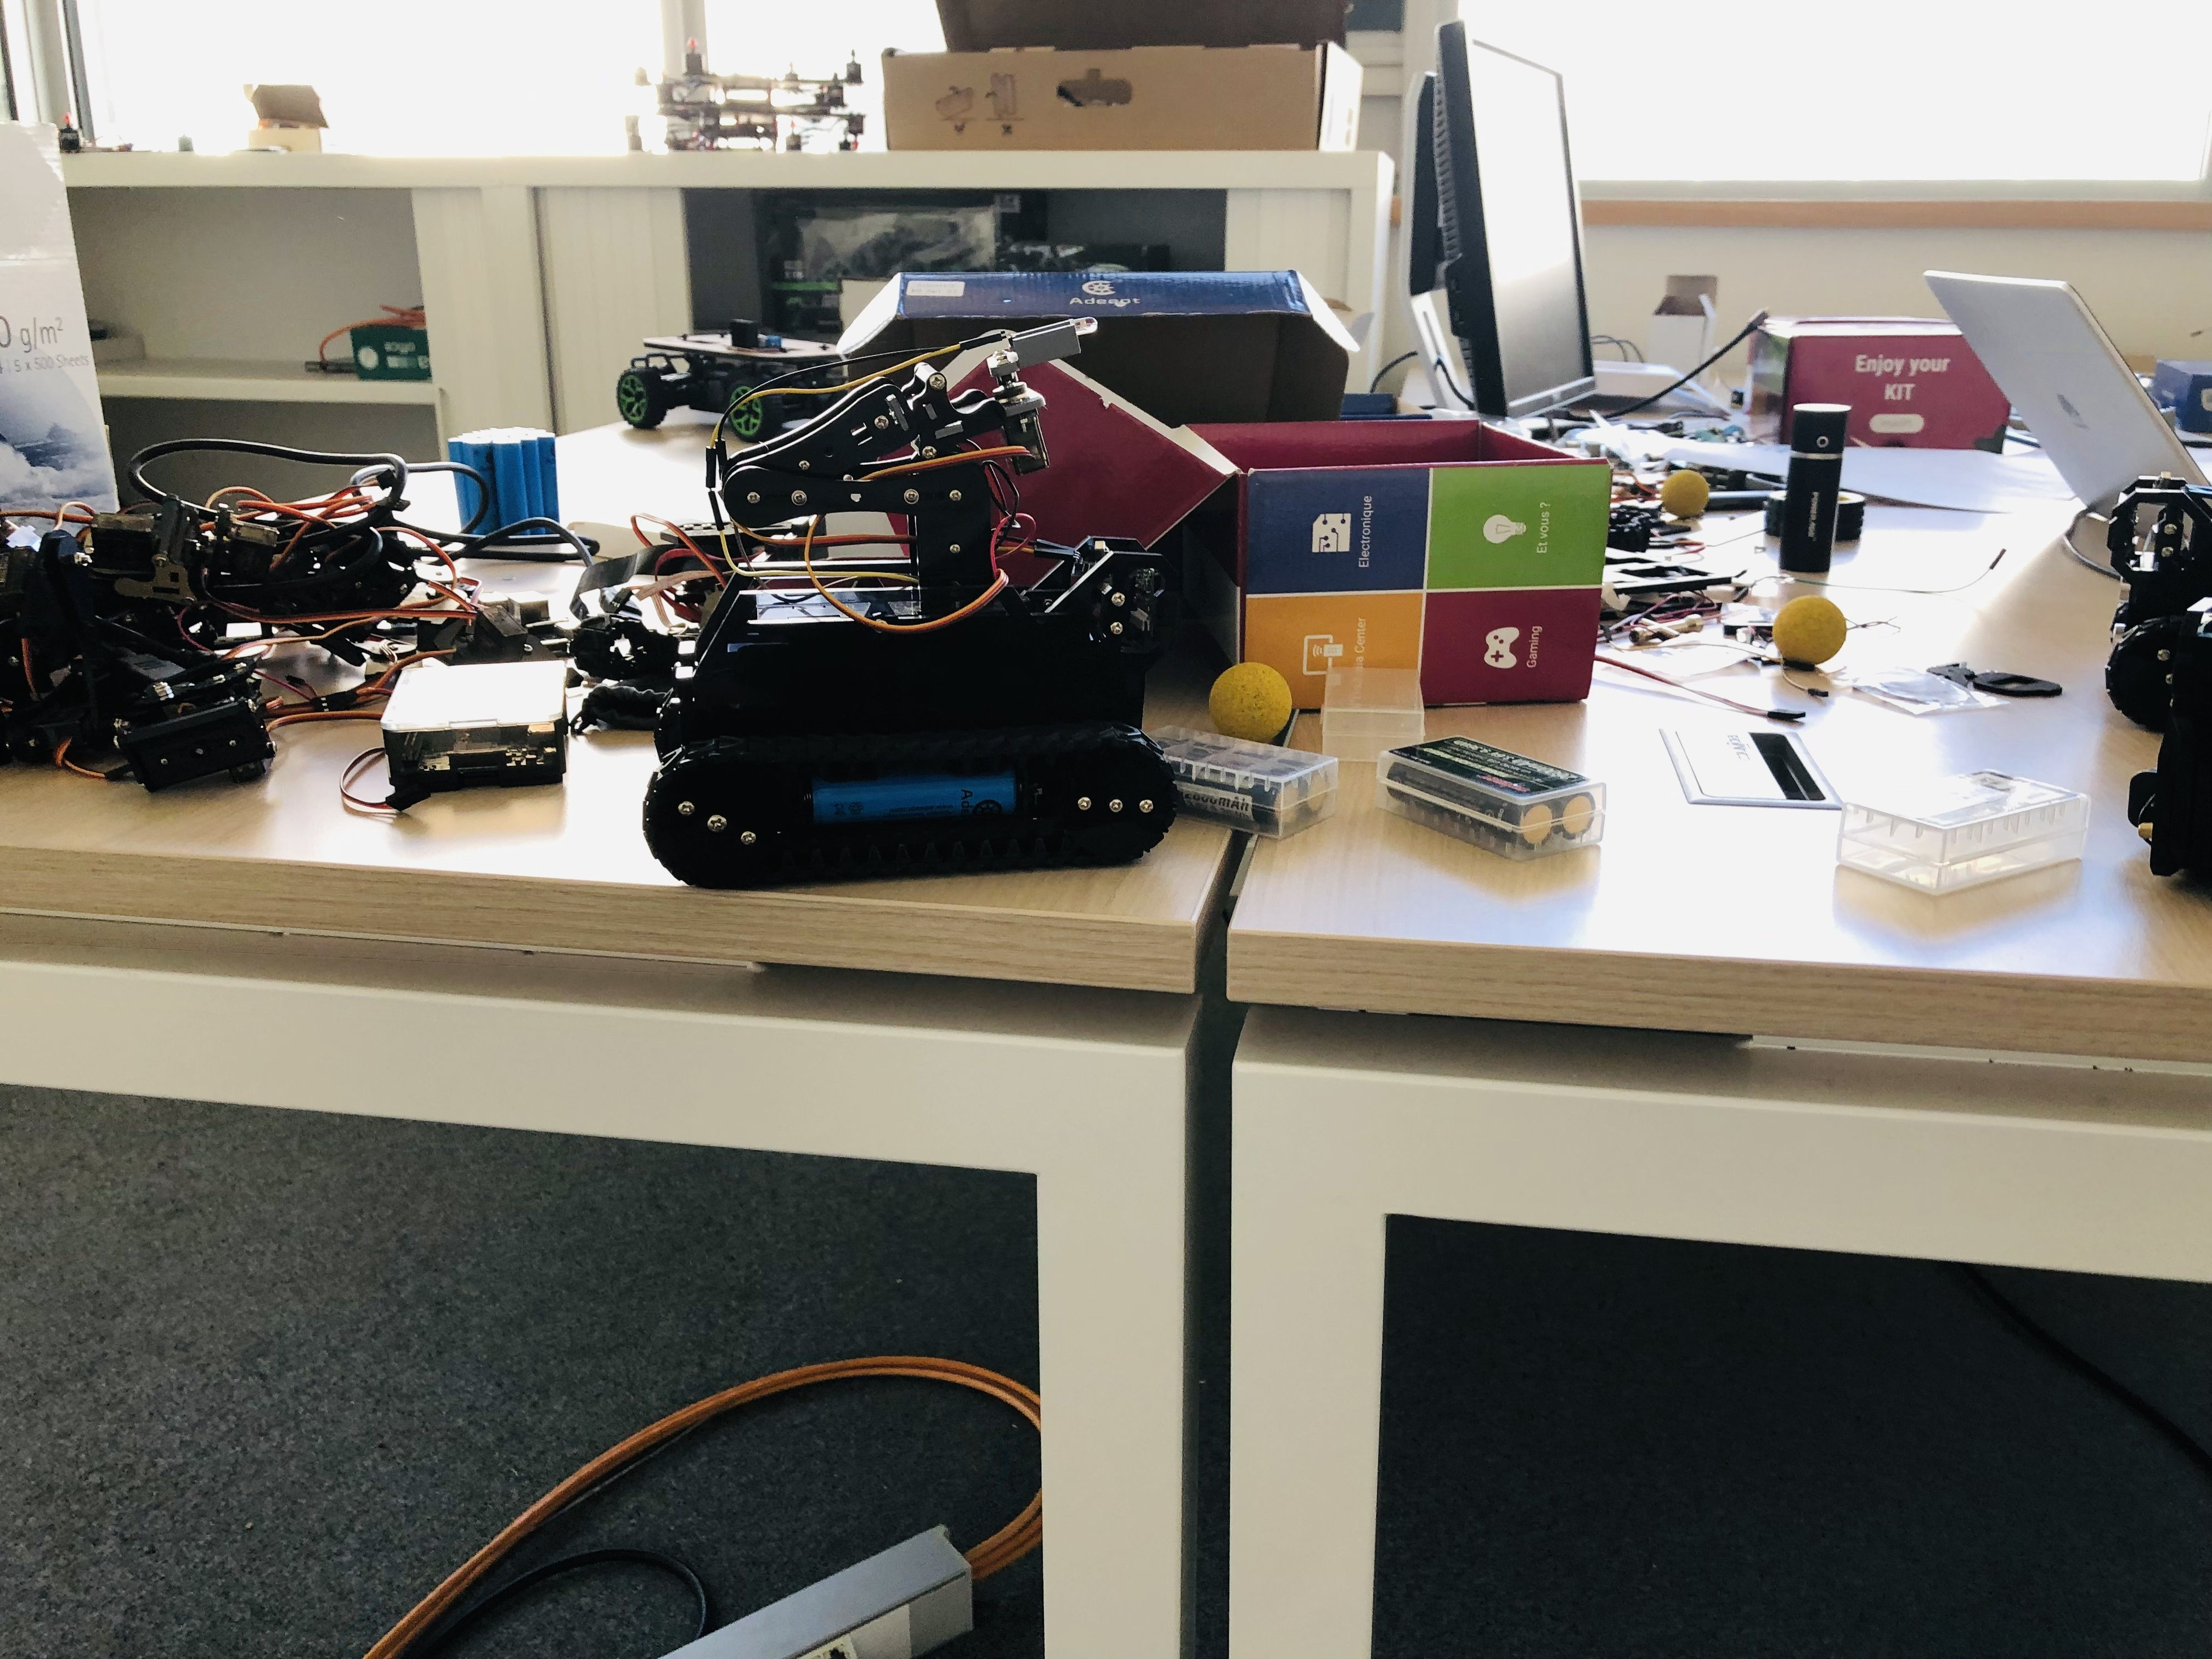rasptank: (637, 307, 1179, 896)
